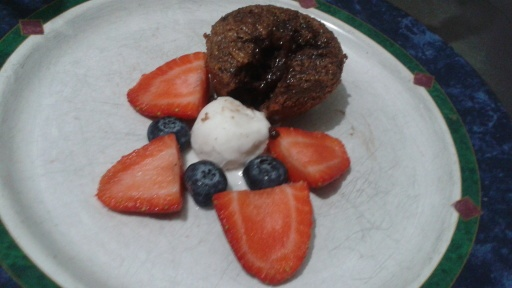background: (77, 1, 280, 128)
